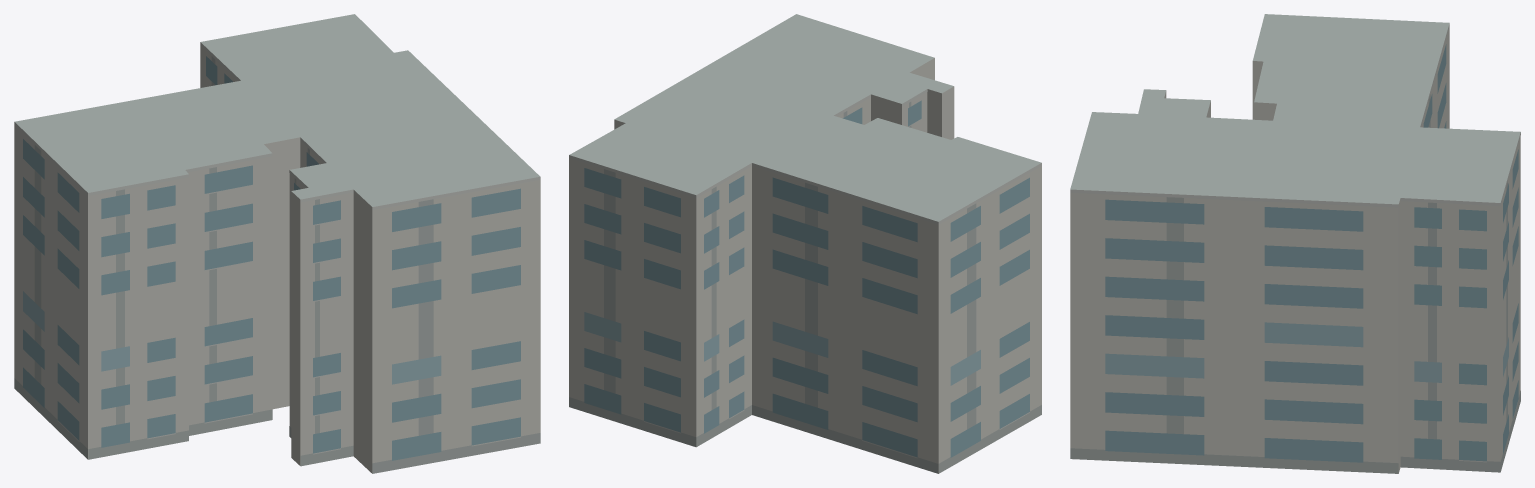
File: survey-upis-32870436.glb
3 renders of one model, left to right at view 1: azimuth 30°, elevation 25°; view 2: azimuth 150°, elevation 25°; view 3: azimuth 270°, elevation 25°, orthographic. The views are drawn at different scales.
Parts seen in each view (by area): view 1: survey-upis-32870436.tmp; view 2: survey-upis-32870436.tmp; view 3: survey-upis-32870436.tmp.
Part boxes in pixels (left/top/right/bottom): survey-upis-32870436.tmp: left=14, top=14, right=540, bottom=473; survey-upis-32870436.tmp: left=569, top=14, right=1041, bottom=473; survey-upis-32870436.tmp: left=1070, top=14, right=1520, bottom=473.
Bounding box in the file's own units: 31.08 × 20.5 × 31.08.
